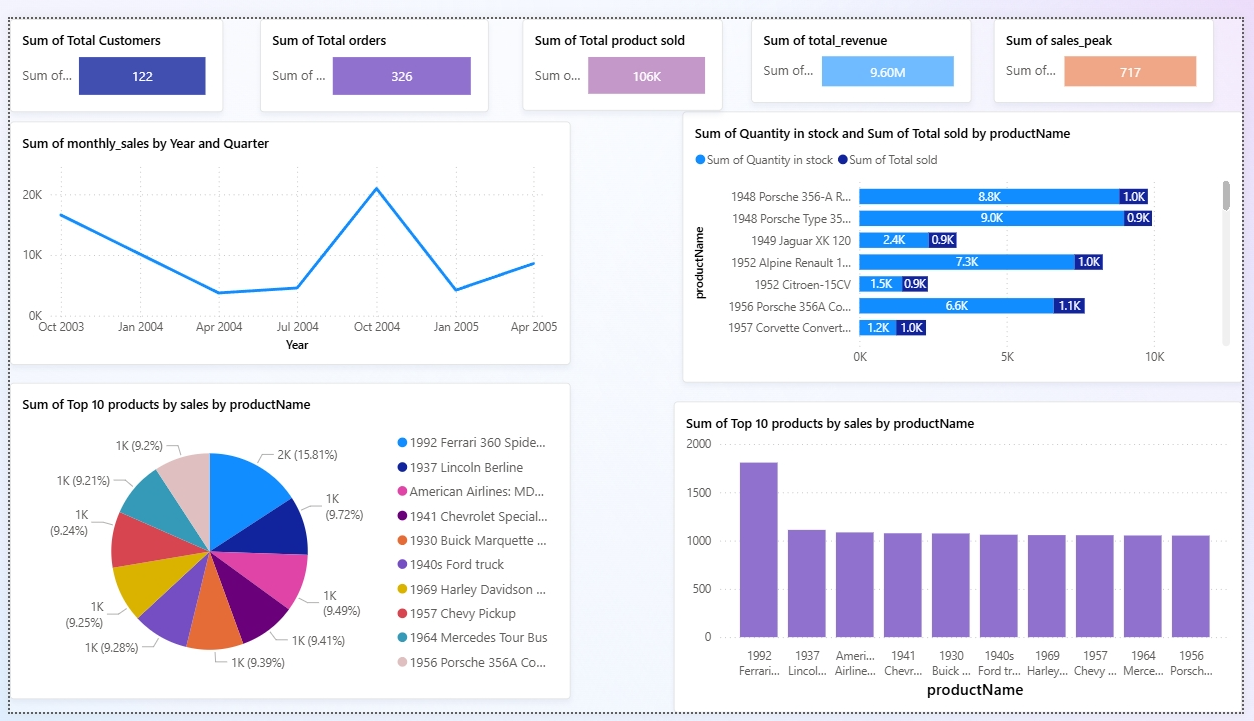

This screenshot's page, from the dashboard's own definition file:
{"tool":"powerbi","page":{"name":"Page 1","canvas":[1280,720],"ordinal":0},"visuals":[{"type":"pieChart","fields":{"Category":["Total sold in DESC 2 0.productName"],"Y":["Sum(Total sold in DESC 2 0.total_sold)"]},"box":[9.8,0,604.1,359.5],"z":0},{"type":"columnChart","fields":{"Category":["Total sold in DESC 2 0.productName"],"Y":["Sum(Total sold in DESC 2 0.total_sold)"]},"box":[9.8,388.9,616.3,331.4],"z":1000},{"type":"lineChart","fields":{"Category":["sales peak.month.Variation.Date Hierarchy.Year","sales peak.month.Variation.Date Hierarchy.Quarter","sales peak.month.Variation.Date Hierarchy.Month","sales peak.month.Variation.Date Hierarchy.Day"],"Y":["Sum(sales peak.monthly_sales)"]},"box":[797.3,388.9,483,331.4],"z":2000},{"type":"barChart","fields":{"Category":["stategic results -- demand vs  inventory.productName","sales peak.month.Variation.Date Hierarchy.Year","sales peak.month.Variation.Date Hierarchy.Quarter","sales peak.month.Variation.Date Hierarchy.Month","sales peak.month.Variation.Date Hierarchy.Day"],"Y":["Sum(stategic results -- demand vs  inventory.quantityInStock)","Sum(stategic results -- demand vs  inventory.total_sold)"]},"box":[766.7,0,513.6,359.5],"z":3000},{"type":"funnel","fields":{"Y":["Sum(stategic results -- demand vs  inventory.total_sold)","Sum(total_revenue.total_revenue)","Sum(sales peak.monthly_sales)"]},"box":[542.9,320.4,254.3,182.2],"z":3001}]}

Visuals, with their boxes in screenshot pixels (x1, y1, x2, y2), scaled from the page's 1280x720 canvas onto the 1254x721 screenshot:
pieChart - Total sold in DESC 2 0.productName x Sum(Total sold in DESC 2 0.total_sold): [10,0,601,360]
columnChart - Total sold in DESC 2 0.productName x Sum(Total sold in DESC 2 0.total_sold): [10,389,613,720]
lineChart - sales peak.month.Variation.Date Hierarchy.Year x sales peak.month.Variation.Date Hierarchy.Quarter: [781,389,1253,720]
barChart - stategic results -- demand vs  inventory.productName x sales peak.month.Variation.Date Hierarchy.Year: [751,0,1253,360]
funnel - Sum(stategic results -- demand vs  inventory.total_sold) x Sum(total_revenue.total_revenue): [532,321,781,503]
